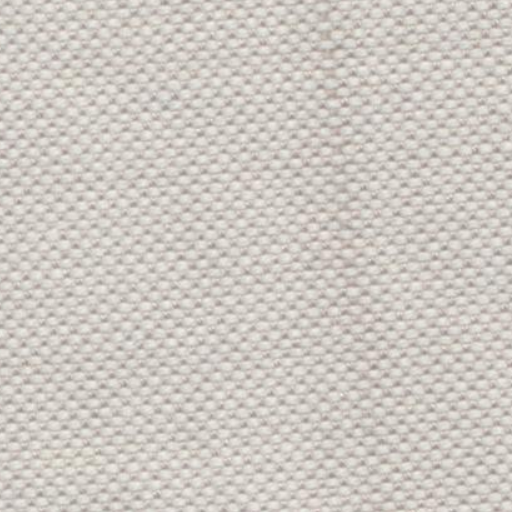TuoSha: (284, 10, 420, 498)
